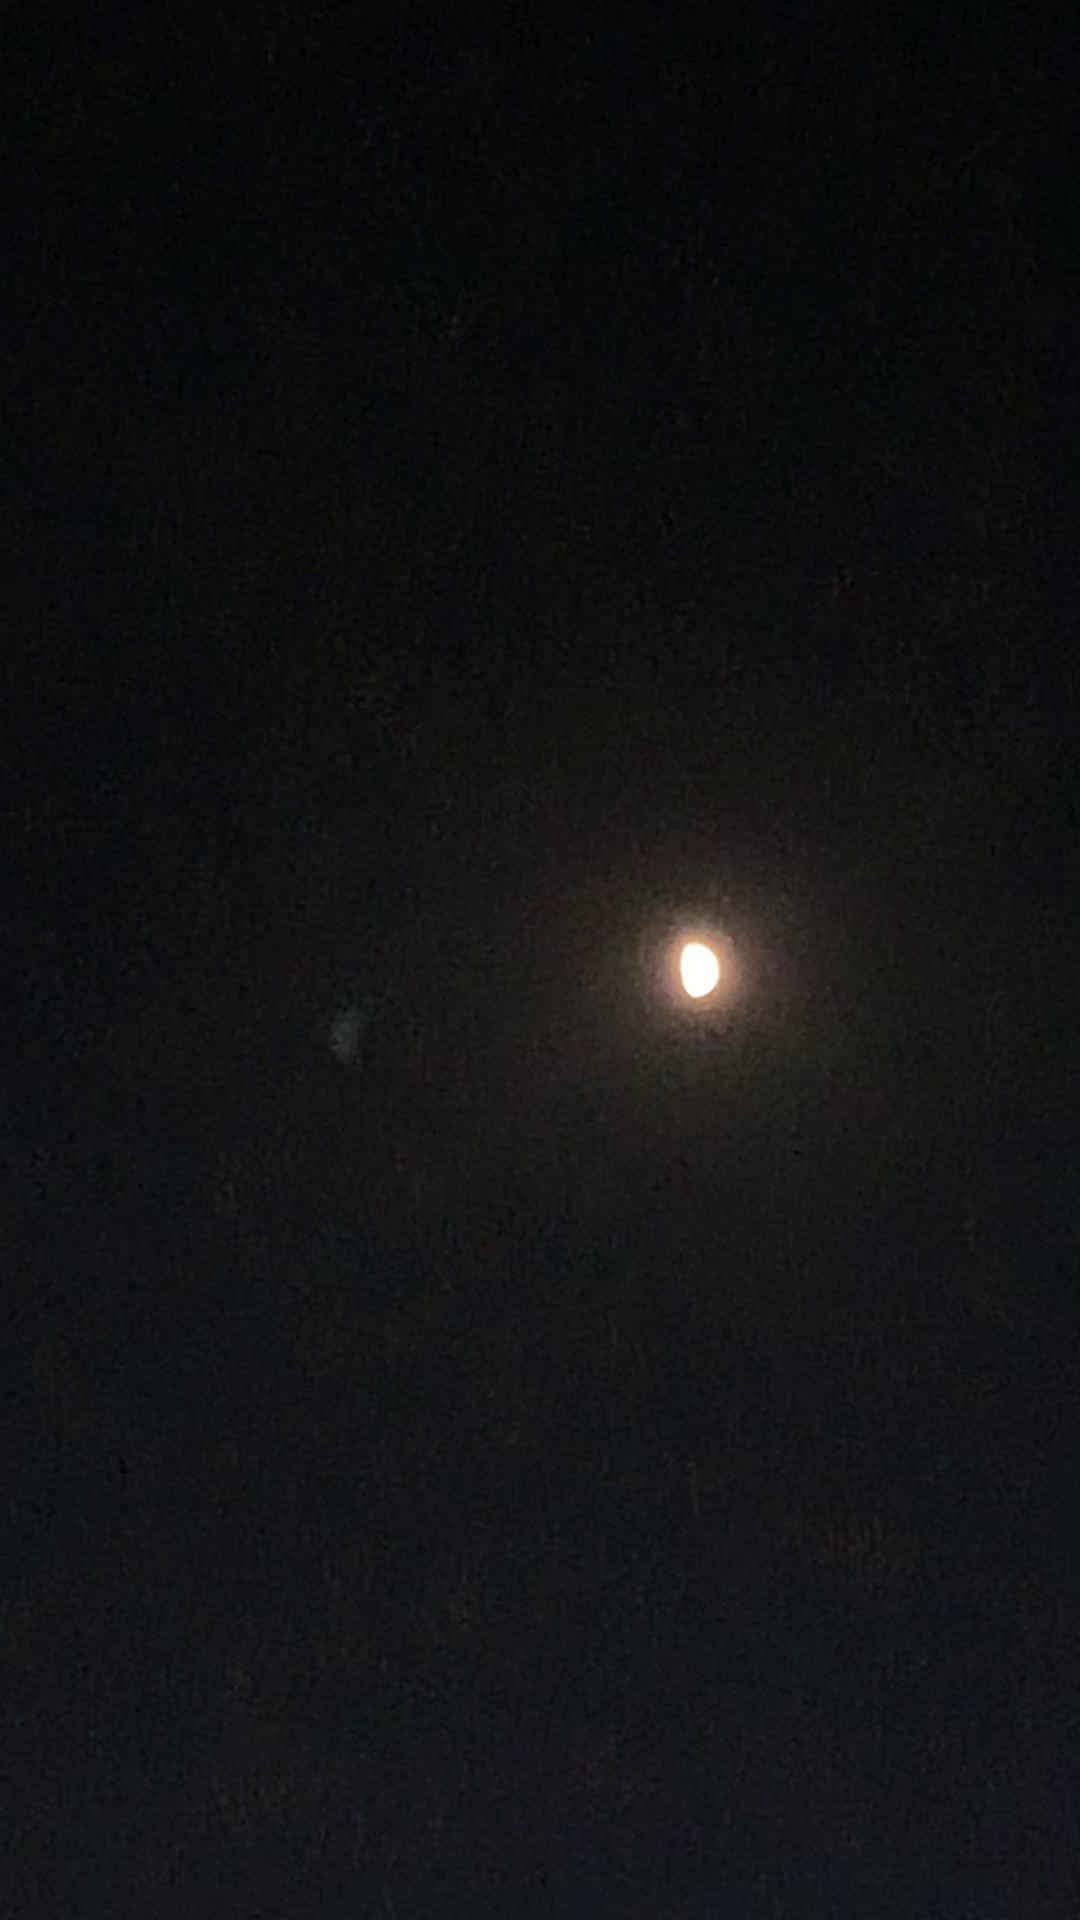moon: (661, 923, 753, 1022)
